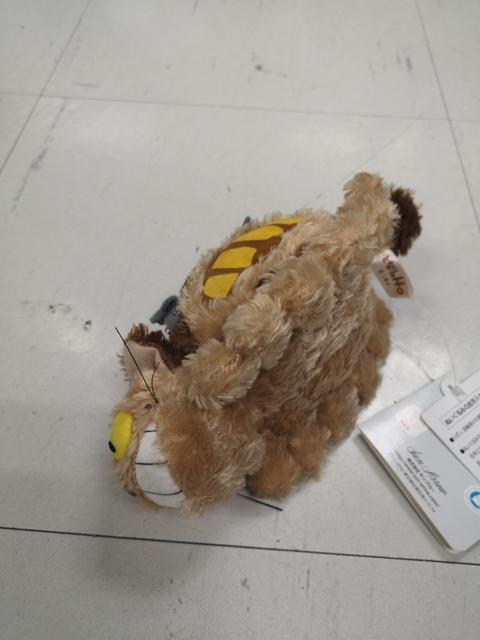nekobus: (96, 163, 429, 525)
